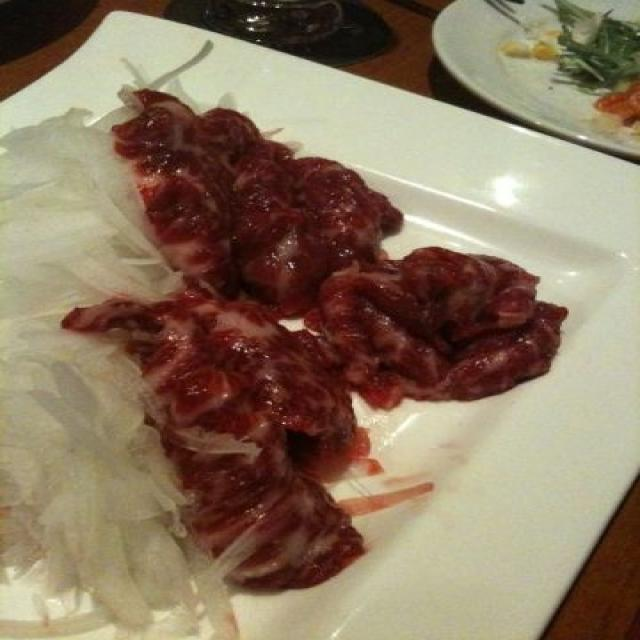刺身生食: (25, 37, 604, 614)
